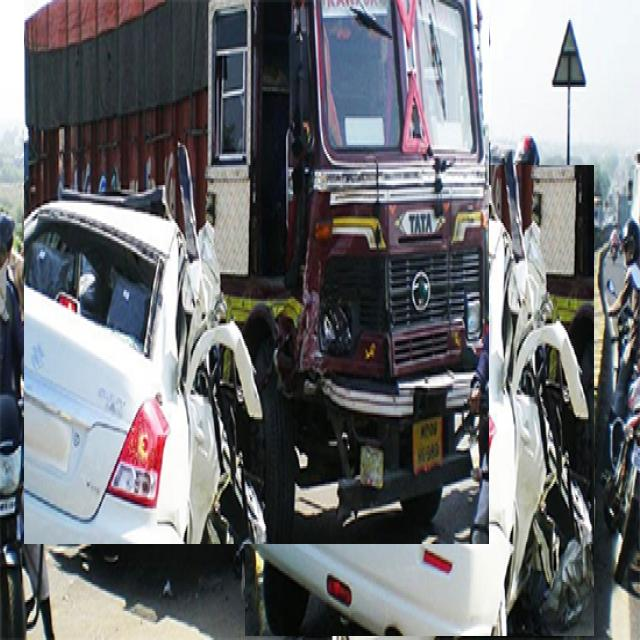accident: (24, 0, 489, 544), (245, 165, 594, 636)
motorcycle: (0, 213, 54, 636)
